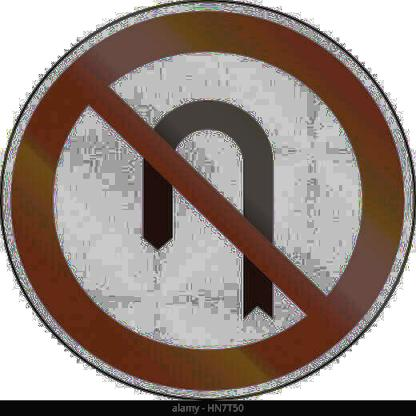No U-turn: (3, 3, 416, 399)
